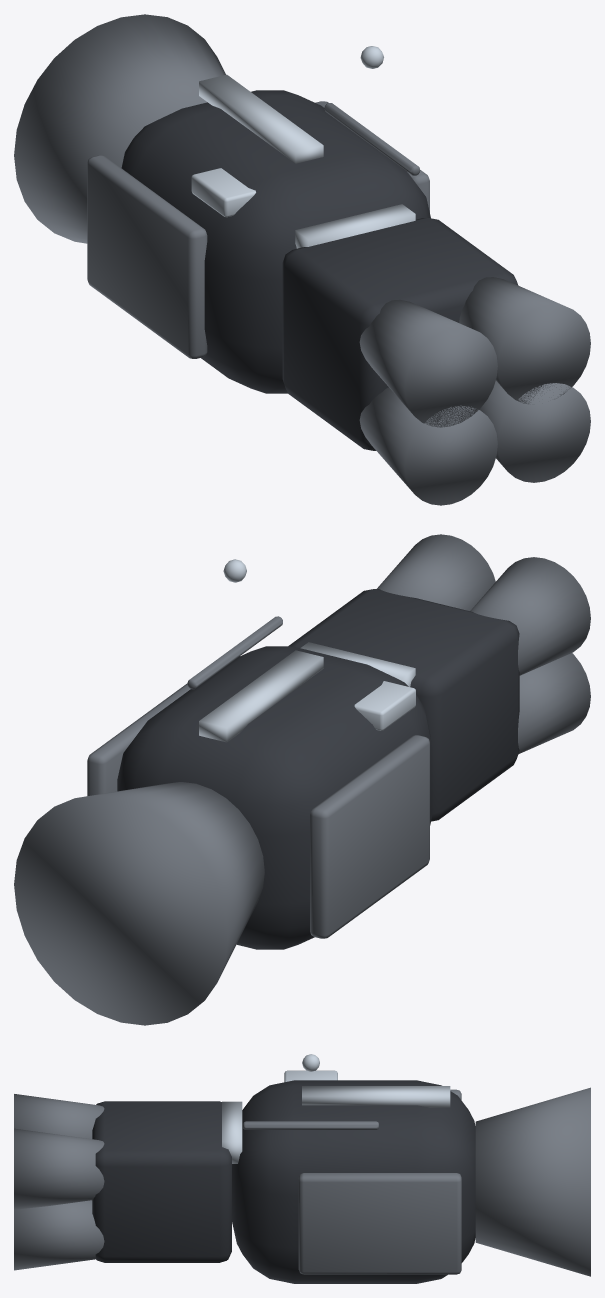
The model's file is weapon_drone_cinder_stream.glb.
The picture shows the model from 3 angles, top to bottom: view 1: azimuth 30°, elevation 25°; view 2: azimuth 150°, elevation 25°; view 3: azimuth 270°, elevation 25°; orthographic projection. The views are drawn at different scales.
Parts seen in each view (by area): view 1: weapon_drone_cinder_stream; view 2: weapon_drone_cinder_stream; view 3: weapon_drone_cinder_stream.
Part boxes in pixels (bbox=[...]): weapon_drone_cinder_stream: bbox=[14, 14, 590, 505]; weapon_drone_cinder_stream: bbox=[14, 534, 590, 1025]; weapon_drone_cinder_stream: bbox=[14, 1054, 590, 1283].
Size of the model in its own units: 0.5184 by 0.64 by 1.4.
